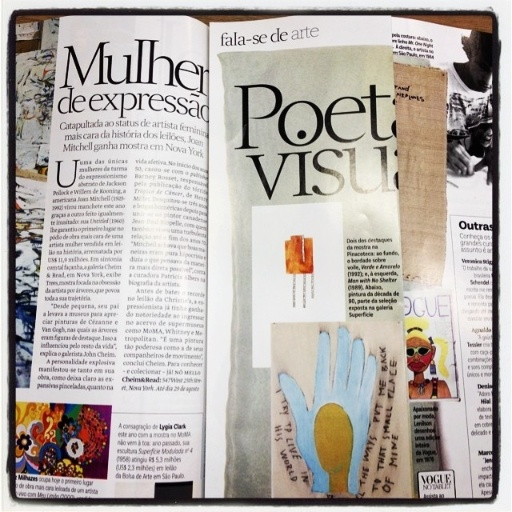hand: (302, 323, 376, 492)
